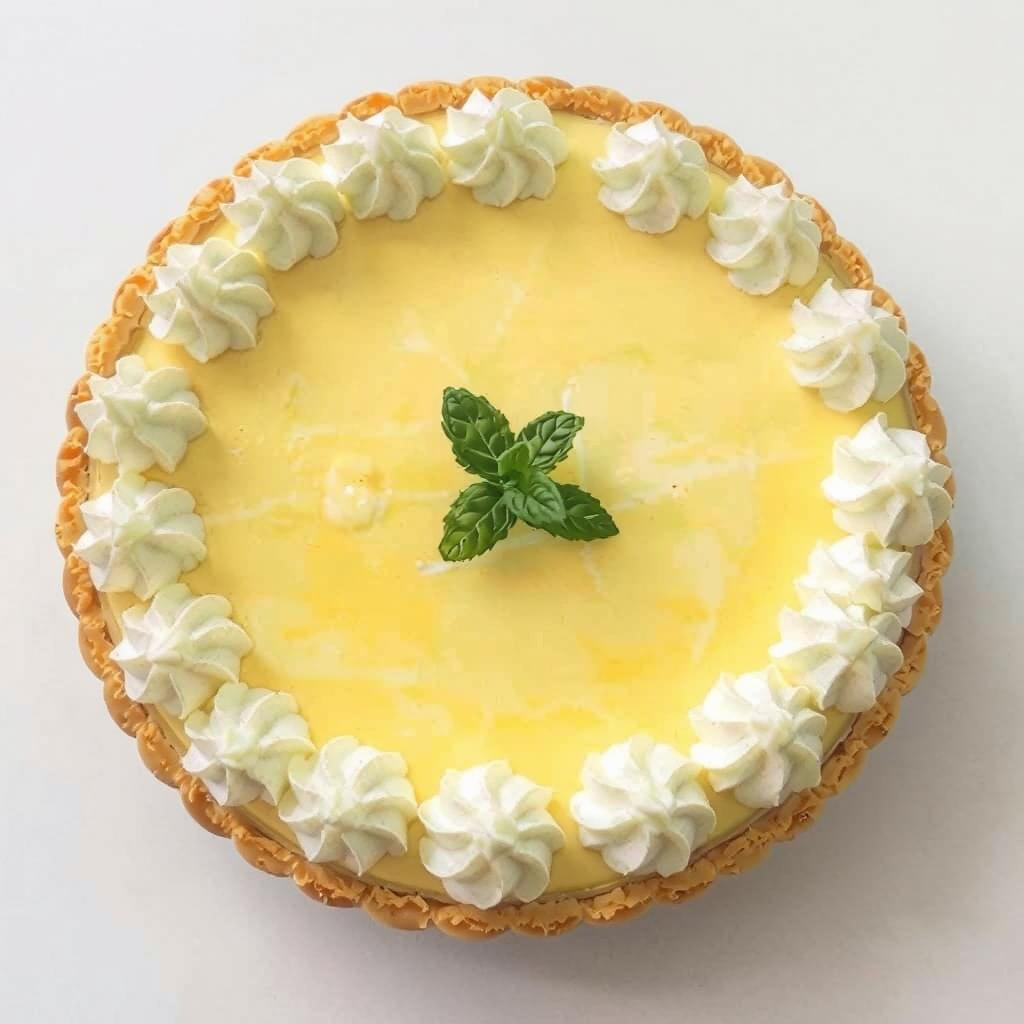pie: (47, 70, 964, 960)
